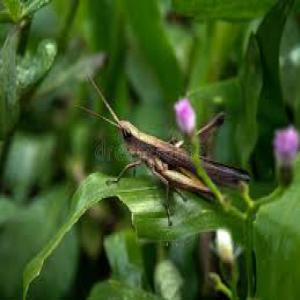locust: (101, 94, 268, 224)
